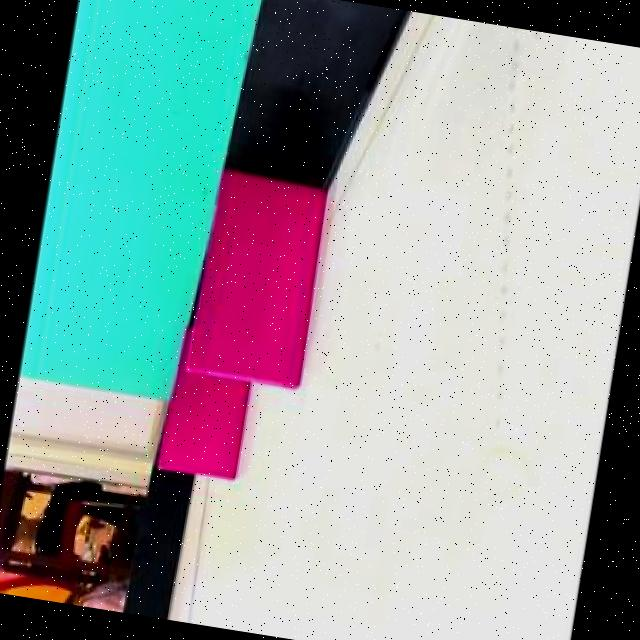xparking: (192, 174, 329, 384), (162, 371, 250, 477)
